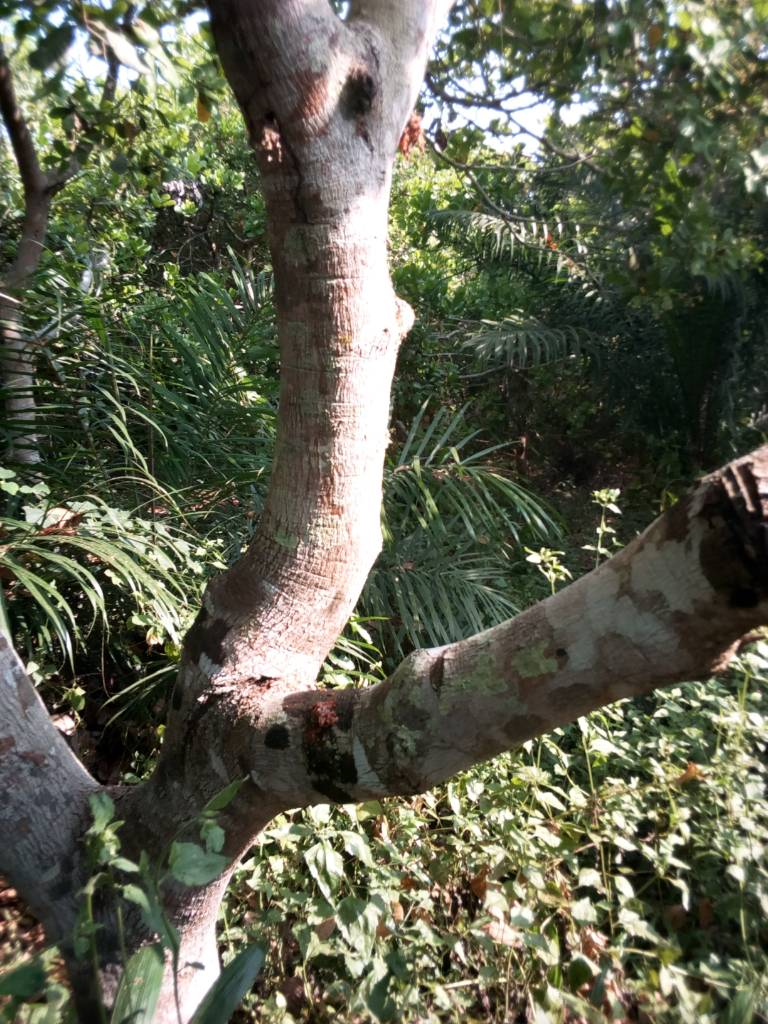Apate terebrans: (313, 58, 435, 167)
